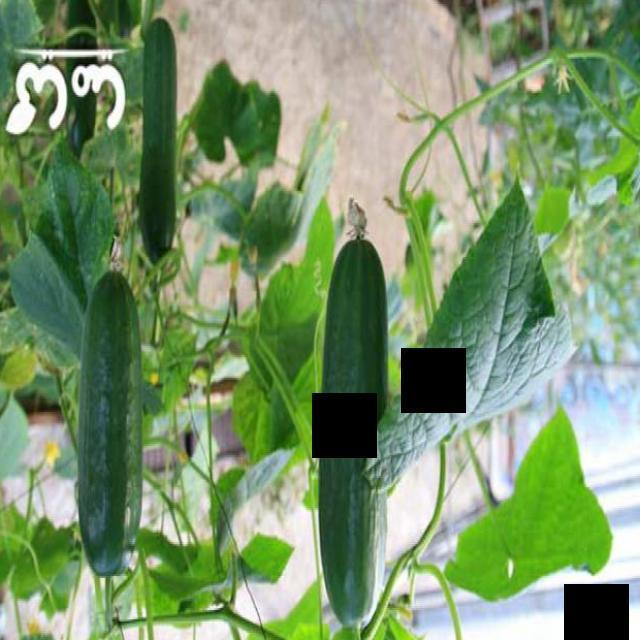cucumber: (316, 236, 392, 634), (74, 270, 146, 586), (138, 18, 182, 268)
